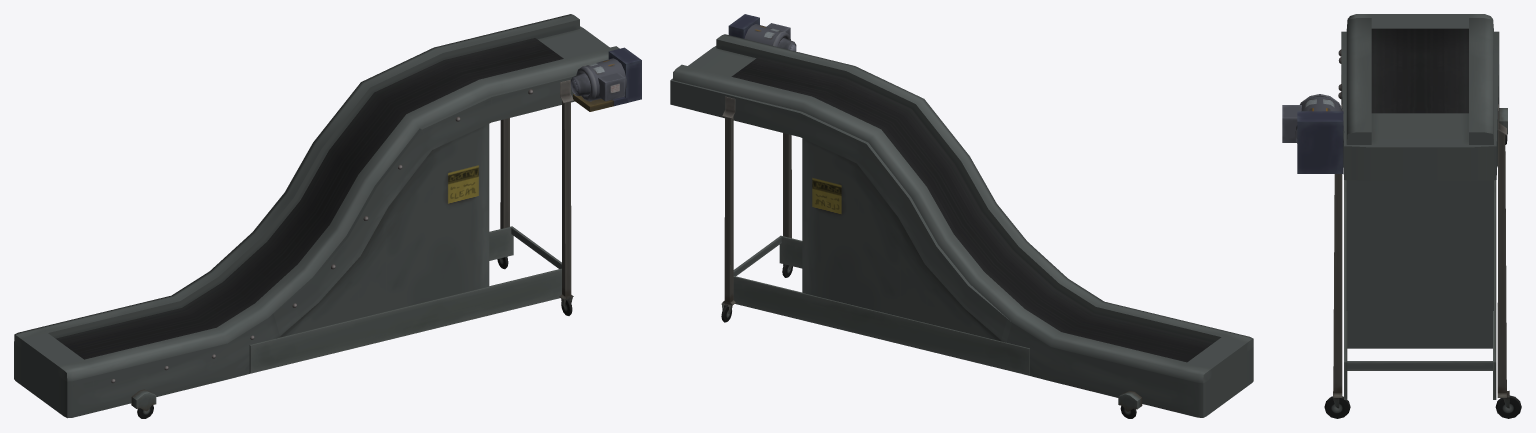
Rendered from conveyor.fbx.
3 renders of one model, left to right at view 1: azimuth 30°, elevation 25°; view 2: azimuth 150°, elevation 25°; view 3: azimuth 270°, elevation 25°, orthographic. The views are drawn at different scales.
Visible parts, largest first — view 1: MainStructure, Belt1, pCube1, pCube3, pCube11, pCube10, pCube14, pCube9, pCylinder3; view 2: MainStructure, Belt1, pCube14, pCube11, pCube3, pCube1; view 3: MainStructure, Belt1, pCube10, pCube11, pCube3, pCube6, pCube1, pCube14, pCube9, pCylinder3, Wheeeel2, Wheeeel.
Part boxes in pixels (left/top/right/bottom): MainStructure: left=14, top=14, right=619, bottom=418; Belt1: left=56, top=38, right=563, bottom=359; pCube1: left=249, top=268, right=561, bottom=373; pCube3: left=559, top=101, right=573, bottom=299; pCube11: left=500, top=118, right=509, bottom=228; pCube10: left=608, top=47, right=641, bottom=102; pCube14: left=489, top=226, right=513, bottom=260; pCube9: left=598, top=73, right=625, bottom=101; pCylinder3: left=585, top=58, right=626, bottom=100; MainStructure: left=670, top=34, right=1253, bottom=417; Belt1: left=731, top=57, right=1213, bottom=362; pCube14: left=733, top=276, right=1029, bottom=375; pCube11: left=722, top=116, right=735, bottom=305; pCube3: left=783, top=133, right=791, bottom=238; pCube1: left=779, top=235, right=802, bottom=268; MainStructure: left=1341, top=14, right=1499, bottom=348; Belt1: left=1371, top=28, right=1468, bottom=113; pCube10: left=1297, top=111, right=1343, bottom=173; pCube11: left=1497, top=130, right=1506, bottom=397; pCube3: left=1333, top=174, right=1342, bottom=397; pCube6: left=1347, top=361, right=1492, bottom=370; pCube1: left=1344, top=180, right=1347, bottom=399; pCube14: left=1493, top=180, right=1496, bottom=399; pCube9: left=1282, top=105, right=1301, bottom=142; pCylinder3: left=1295, top=96, right=1344, bottom=143; Wheeeel2: left=1495, top=395, right=1521, bottom=418; Wheeeel: left=1324, top=396, right=1350, bottom=418.
Bounding box in the file's own units: 76.09 × 32.61 × 21.05.
